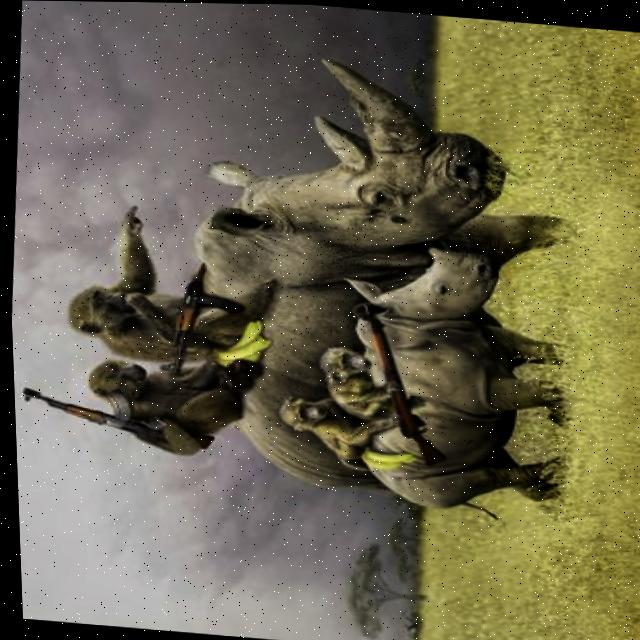firearm: (347, 312, 454, 465), (15, 379, 216, 450), (151, 256, 248, 379)
